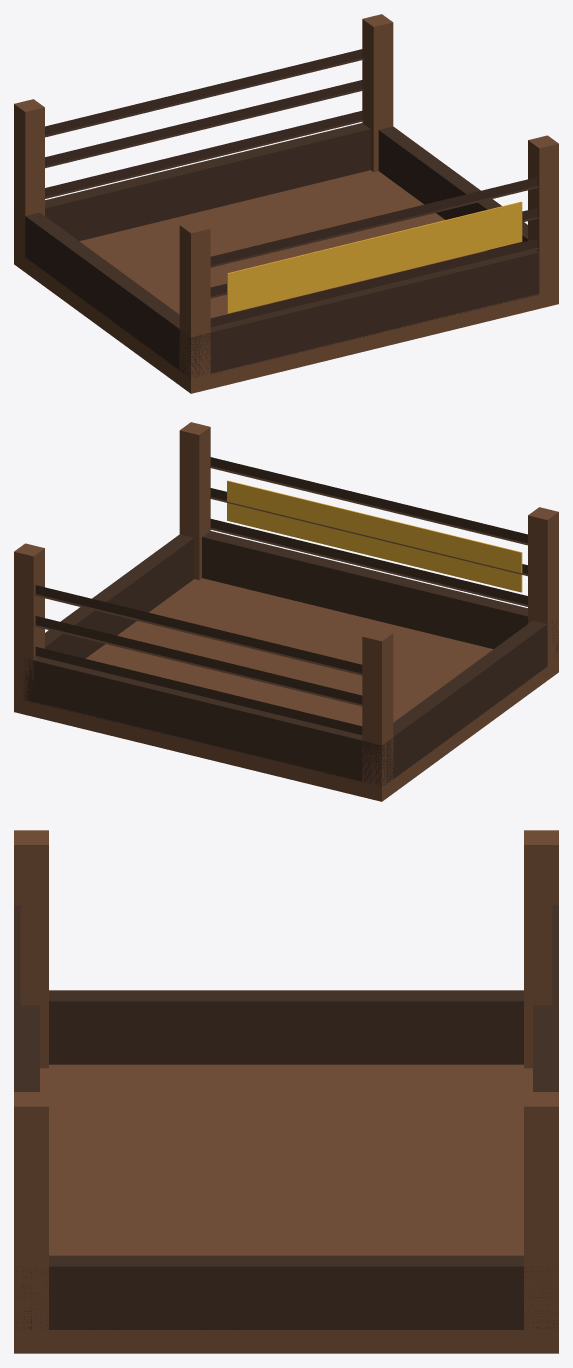
Rendered from CRATE_HONEYGOLD_6X2_5.obj.
3 renders of one model, top to bottom at view 1: azimuth 30°, elevation 25°; view 2: azimuth 150°, elevation 25°; view 3: azimuth 270°, elevation 25°, orthographic. The views are drawn at different scales.
Parts seen in each view (by area): view 1: ART003_PROP; view 2: ART003_PROP; view 3: ART003_PROP.
Boxes of the visible parts, x1,y1,x2,y2 form: ART003_PROP: (14, 14, 558, 393); ART003_PROP: (14, 422, 558, 801); ART003_PROP: (14, 830, 558, 1353).
Bounding box in the file's own units: 6 × 2.5 × 5.
